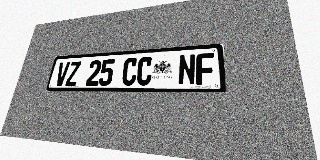2: (85, 60, 102, 86)
5: (98, 59, 115, 86)
C: (121, 57, 138, 86), (136, 56, 153, 85)
F: (196, 53, 215, 85)
N: (178, 54, 196, 85)
V: (54, 62, 70, 86)
Z: (65, 61, 81, 86)
